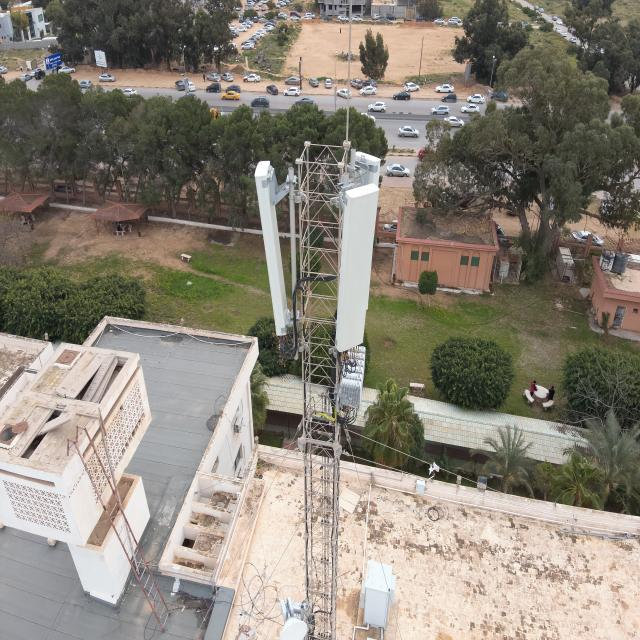antenna: (335, 182, 382, 353), (341, 149, 382, 318), (253, 160, 292, 336)
lighnig-rad: (344, 0, 354, 149)
microware-dish: (278, 595, 308, 640)
radio-unit: (340, 344, 366, 414)
